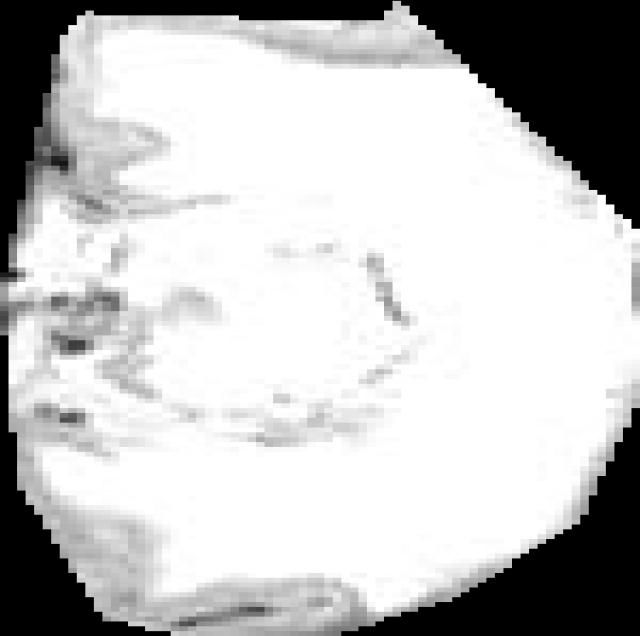tumor_less_chance: (0, 1, 640, 636)
